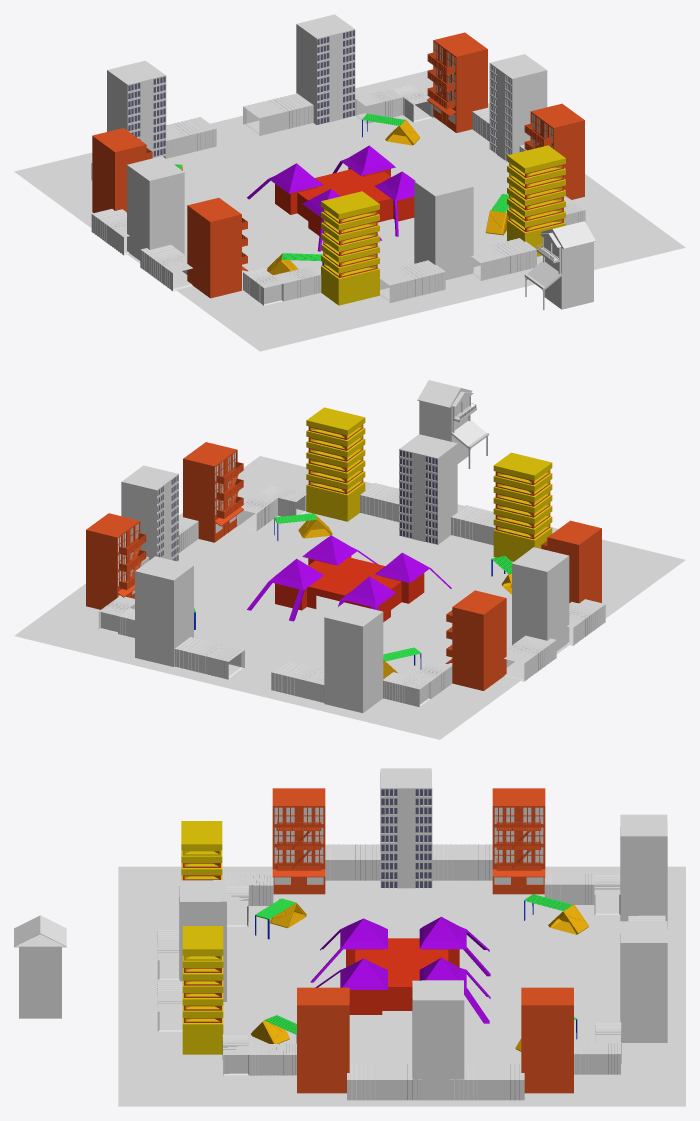
Rendered from SafeZone.fbx.
The picture shows the model from 3 angles, top to bottom: view 1: azimuth 30°, elevation 25°; view 2: azimuth 150°, elevation 25°; view 3: azimuth 270°, elevation 25°; orthographic projection. The views are drawn at different scales.
Parts seen in each view (by area): view 1: Plane, BigTent, Cube.013, Cube.020, Cube.004, Cube.002, Cube.007, Cube.003, Cube.005, Cube.008, Cube.001, Cube.009 (+15 smaller); view 2: Plane, BigTent, Cube.003, Cube.001, Cube.004, Cube.020, Cube.013, Cube.002, Cube.006, Cube.010, Cube.005, Cube.008 (+15 smaller); view 3: Plane, BigTent, Cube.002, Cube.008, Cube.020, Cube.006, Cube.007, Cube.010, Cube.005, Cube.003, Cube.001, Cube.009 (+19 smaller).
Boxes of the visible parts, left/top/right/bottom form: Plane: left=14, top=70, right=685, bottom=351; BigTent: left=247, top=145, right=415, bottom=251; Cube.013: left=321, top=191, right=379, bottom=305; Cube.020: left=296, top=14, right=355, bottom=124; Cube.004: left=414, top=172, right=473, bottom=280; Cube.002: left=127, top=156, right=184, bottom=260; Cube.007: left=187, top=197, right=247, bottom=298; Cube.003: left=507, top=145, right=565, bottom=256; Cube.005: left=427, top=32, right=487, bottom=132; Cube.008: left=489, top=54, right=547, bottom=162; Cube.001: left=107, top=60, right=166, bottom=158; Cube.009: left=524, top=221, right=595, bottom=310; Plane: left=14, top=456, right=685, bottom=739; BigTent: left=247, top=535, right=451, bottom=622; Cube.003: left=306, top=407, right=365, bottom=521; Cube.001: left=324, top=602, right=383, bottom=713; Cube.004: left=399, top=434, right=457, bottom=544; Cube.020: left=135, top=556, right=193, bottom=666; Cube.013: left=493, top=452, right=552, bottom=561; Cube.002: left=512, top=547, right=569, bottom=651; Cube.006: left=445, top=590, right=506, bottom=690; Cube.010: left=183, top=442, right=243, bottom=542; Cube.005: left=86, top=513, right=146, bottom=609; Cube.008: left=121, top=465, right=178, bottom=561; Plane: left=118, top=866, right=685, bottom=1106; BigTent: left=310, top=916, right=490, bottom=1023; Cube.002: left=380, top=768, right=432, bottom=888; Cube.008: left=412, top=980, right=464, bottom=1100; Cube.020: left=620, top=921, right=667, bottom=1042; Cube.006: left=492, top=788, right=545, bottom=894; Cube.007: left=272, top=788, right=325, bottom=894; Cube.010: left=297, top=987, right=349, bottom=1093; Cube.005: left=521, top=987, right=573, bottom=1093; Cube.003: left=182, top=926, right=223, bottom=1054; Cube.001: left=620, top=814, right=667, bottom=928; Cube.009: left=14, top=915, right=66, bottom=1018.
Size of the model in its own units: 9672 by 2130 by 11360.
